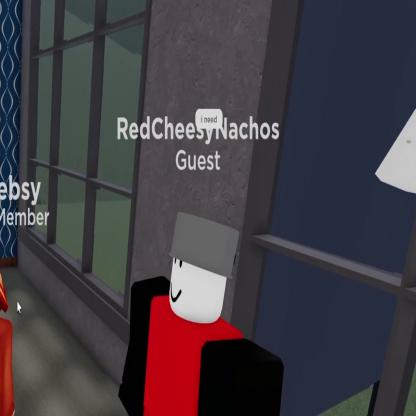Roblox-Avatar: (119, 212, 286, 416)
